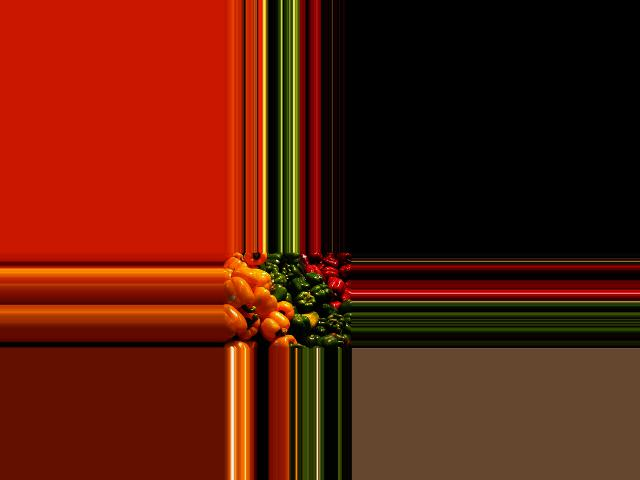bell_pepper: (328, 332, 351, 349)
